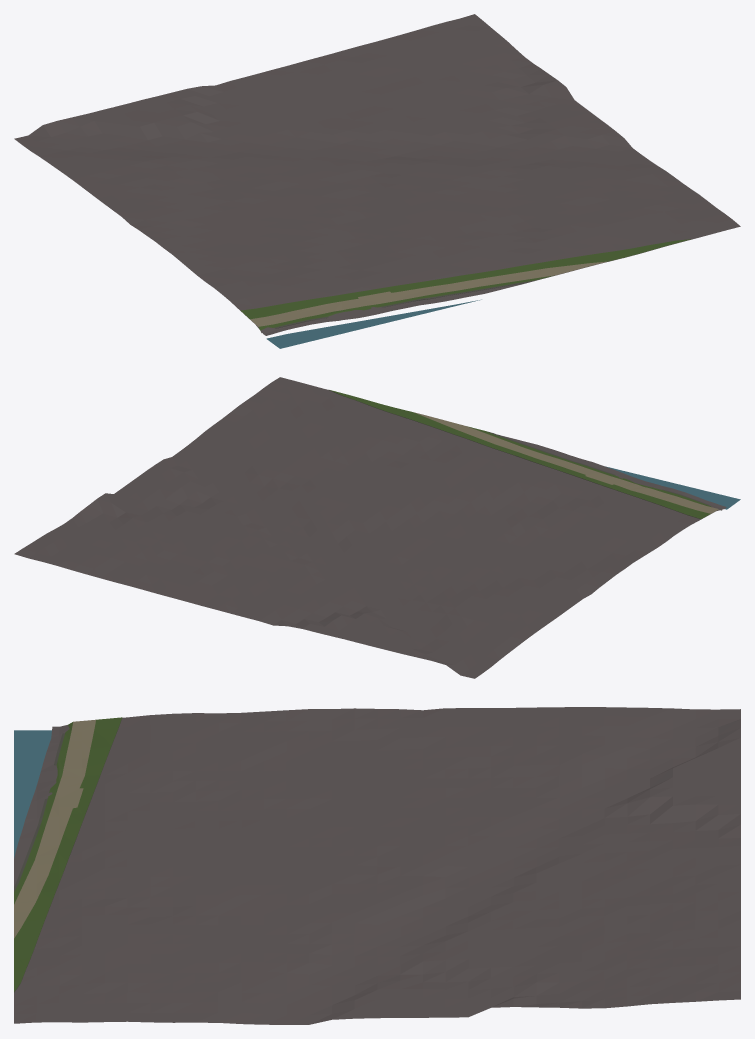
The picture shows the model from 3 angles, top to bottom: view 1: azimuth 30°, elevation 25°; view 2: azimuth 150°, elevation 25°; view 3: azimuth 270°, elevation 25°; orthographic projection. The views are drawn at different scales.
Parts seen in each view (by area): view 1: c_m18_m02; view 2: c_m18_m02; view 3: c_m18_m02.
Boxes of the visible parts, box(x1,y1,x2,y2) form: c_m18_m02: box(14, 14, 740, 348); c_m18_m02: box(14, 377, 740, 678); c_m18_m02: box(14, 707, 740, 1024).
Size of the model in its own units: 128 by 7.36 by 128.
